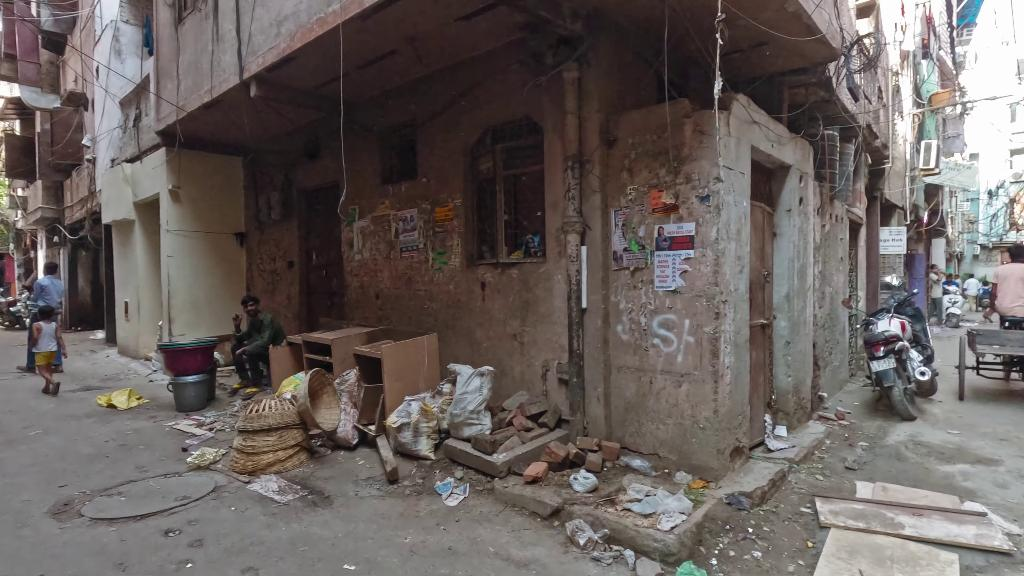garbage: (566, 519, 609, 554), (97, 386, 153, 411), (432, 478, 471, 507), (654, 489, 694, 515), (624, 493, 661, 515), (622, 454, 656, 477), (570, 469, 601, 492)
